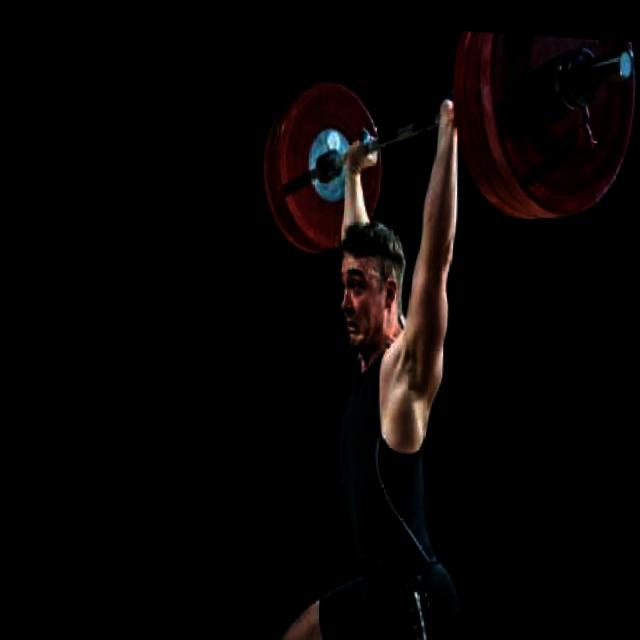barbell: (477, 26, 636, 216)
